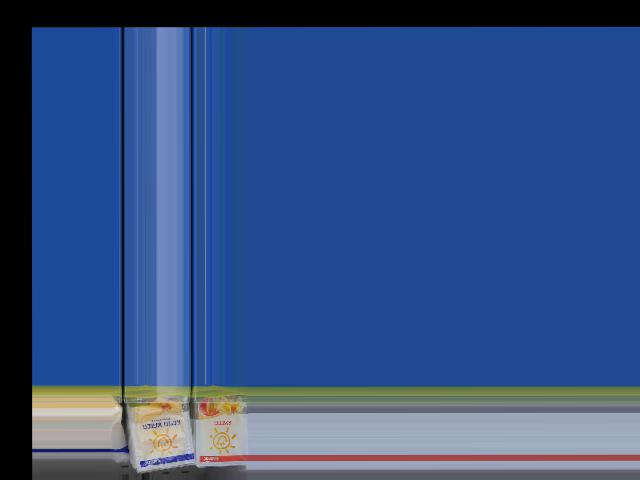cheese: (195, 385, 249, 471)
